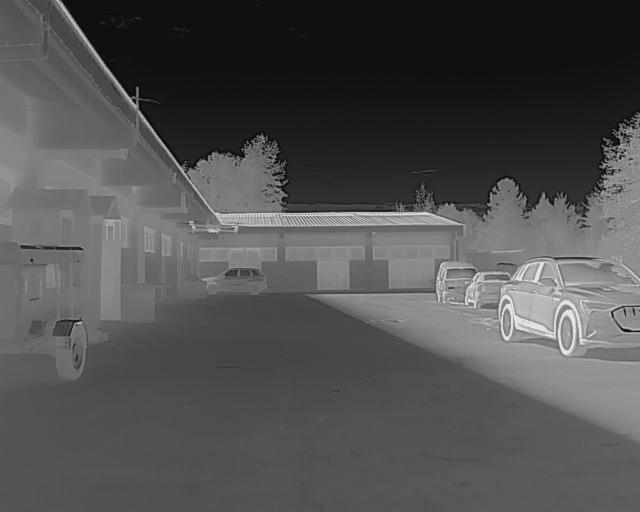drone: (182, 218, 243, 242)
